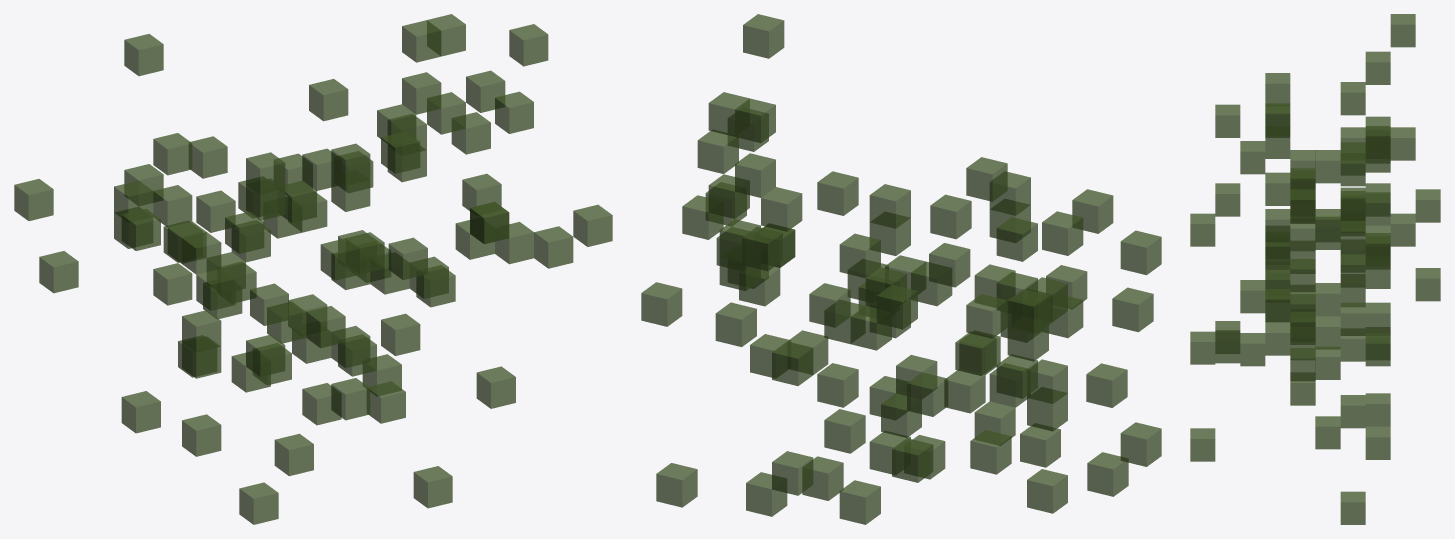
Rendered from cubicMess.glb.
3 views of the same model, side by side, from view 1: azimuth 30°, elevation 25°; view 2: azimuth 150°, elevation 25°; view 3: azimuth 270°, elevation 25° (orthographic). The views are drawn at different scales.
Visible parts, largest first — view 1: CubicMess2.001; view 2: CubicMess2.001; view 3: CubicMess2.001.
Part boxes in pixels (bbox=[...]): CubicMess2.001: bbox=[14, 14, 612, 524]; CubicMess2.001: bbox=[641, 14, 1161, 524]; CubicMess2.001: bbox=[1190, 14, 1440, 524].
Size of the model in its own units: 4 by 3.2 by 2.
